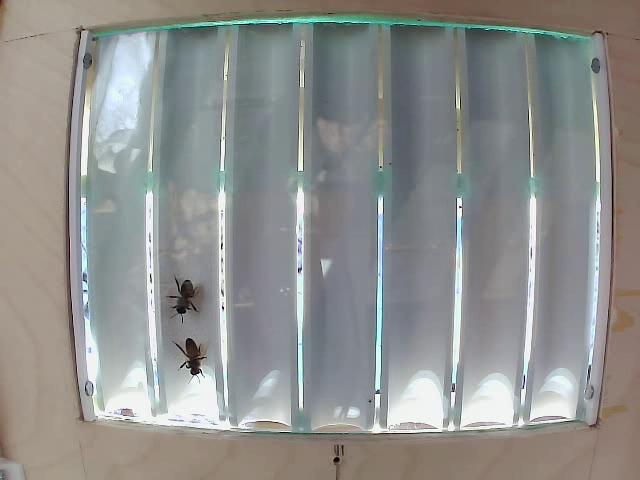bee: (169, 324, 208, 385), (170, 268, 205, 321)
